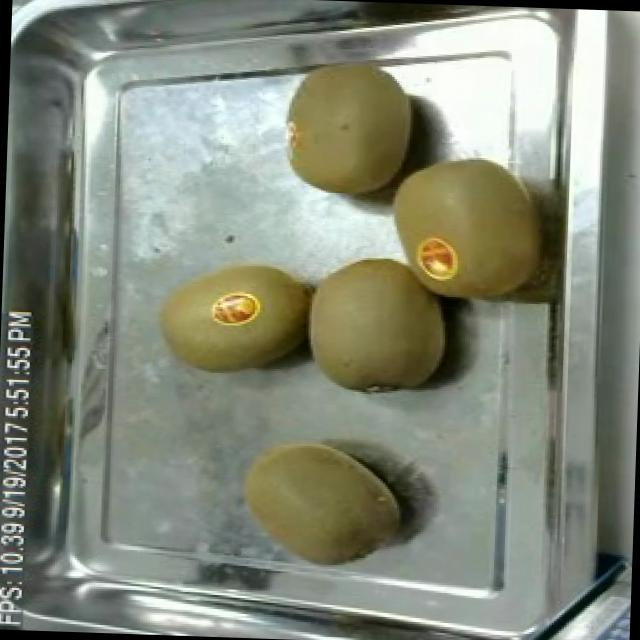Fruit: (375, 140, 552, 312), (227, 429, 410, 575), (296, 245, 457, 400), (269, 48, 426, 205), (146, 246, 318, 384)
